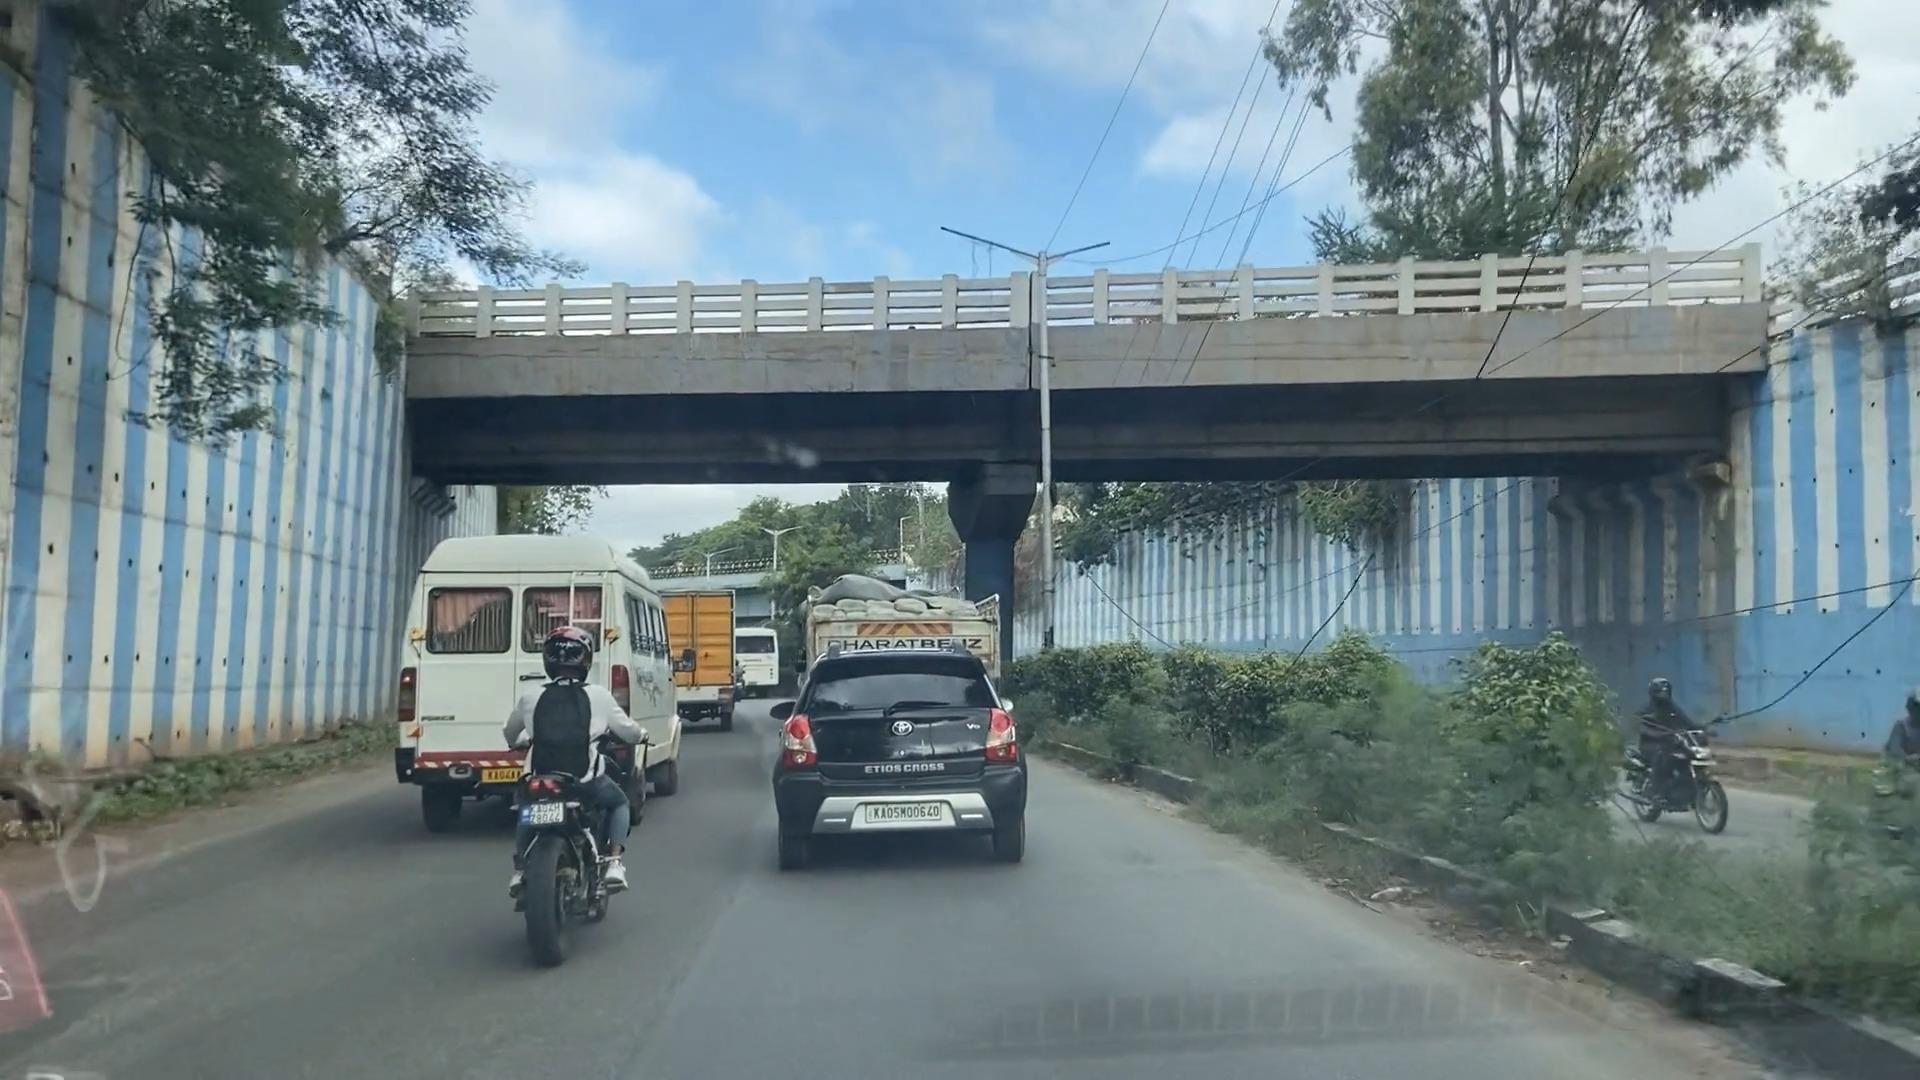HMV: (398, 538, 675, 807), (670, 584, 744, 720)
LMV: (782, 650, 1034, 872), (500, 632, 626, 960)
